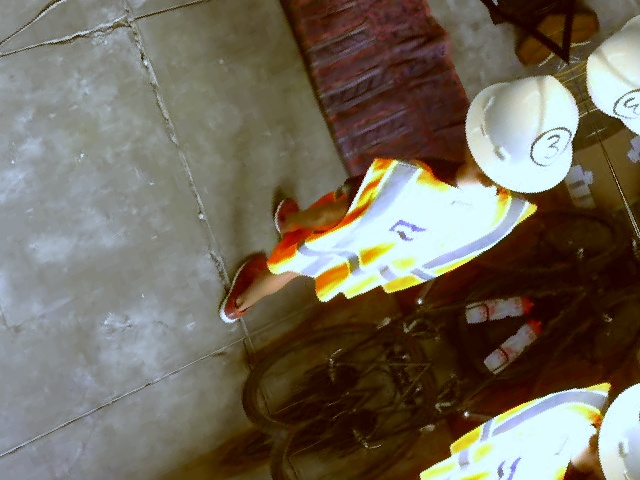three: (524, 120, 578, 170)
